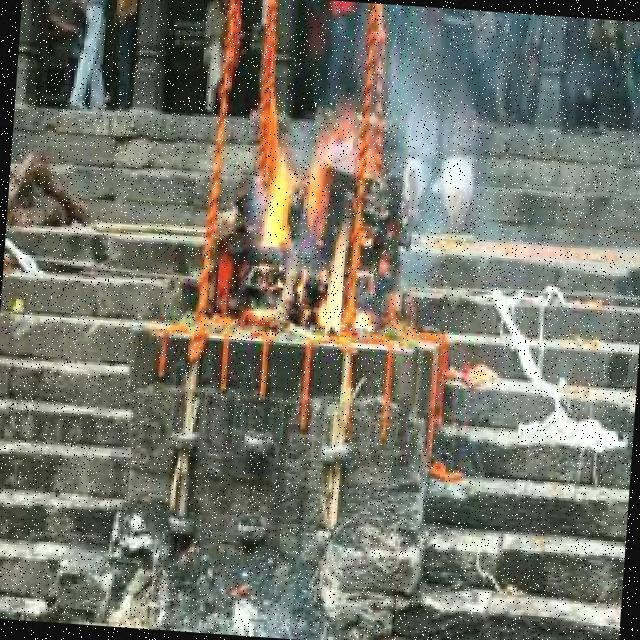Fire: (250, 133, 375, 343)
